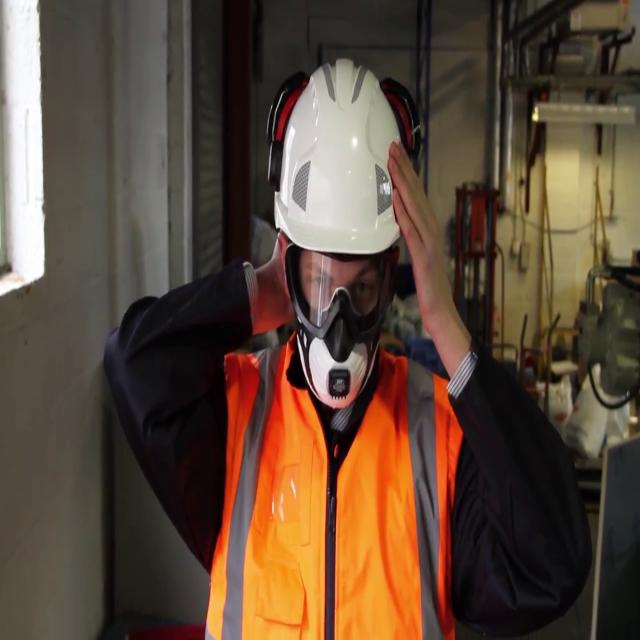earmuff: (262, 59, 314, 181), (372, 64, 426, 176)
glasses: (282, 232, 410, 350)
helmet: (269, 54, 413, 255)
mask: (288, 306, 386, 420)
